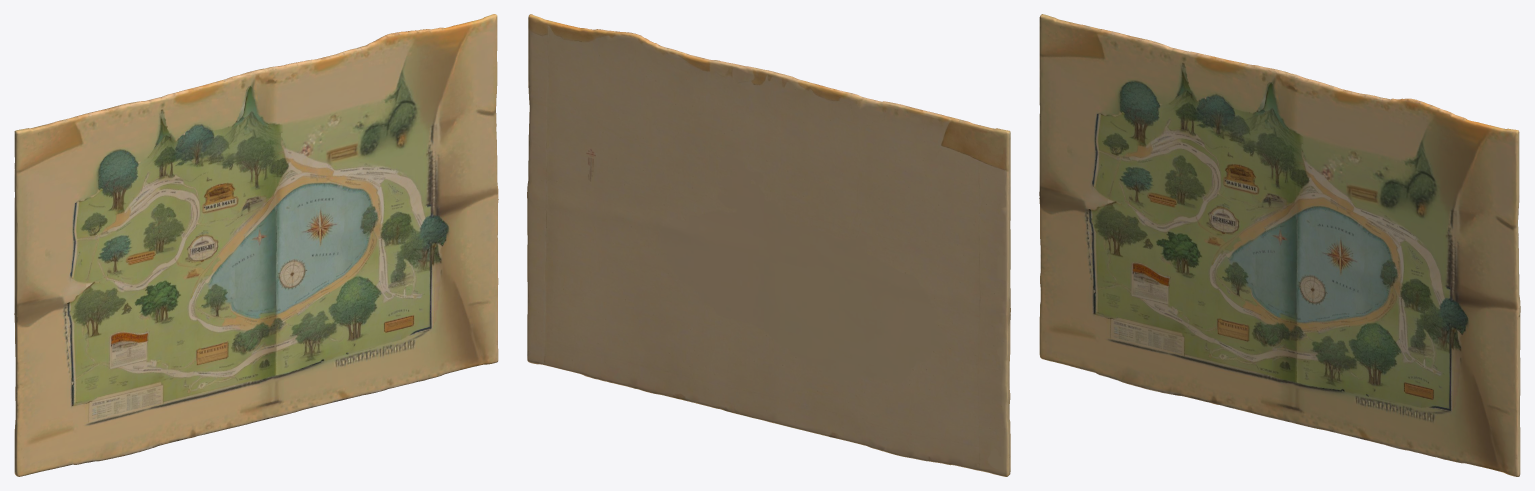
The model's file is An old park map.gltf.
3 views of the same model, side by side, from view 1: azimuth 30°, elevation 25°; view 2: azimuth 150°, elevation 25°; view 3: azimuth 330°, elevation 25° (orthographic).
Parts seen in each view (by area): view 1: Mesh1.0; view 2: Mesh1.0; view 3: Mesh1.0.
Boxes of the visible parts, bbox=[...] form: Mesh1.0: bbox=[14, 14, 498, 476]; Mesh1.0: bbox=[527, 14, 1010, 476]; Mesh1.0: bbox=[1039, 14, 1520, 476].
Size of the model in its own units: 2.01 by 1.42 by 0.0251.
Materials: 1 (1 with a texture image).
